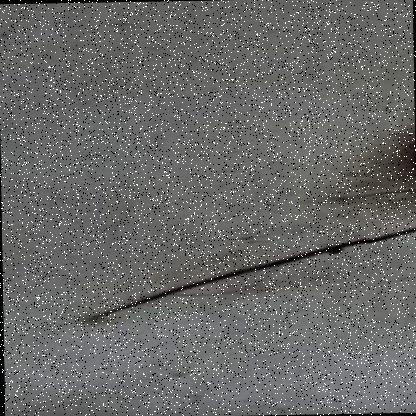Crack: (67, 167, 415, 350)
